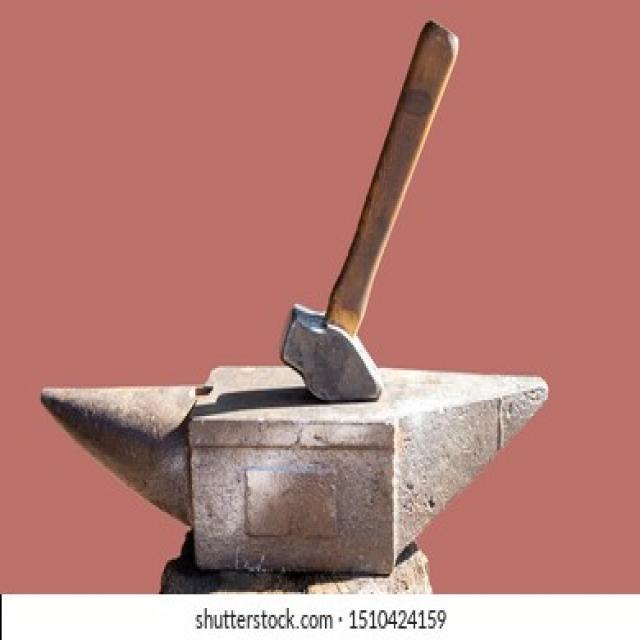hammer: (276, 9, 470, 409)
